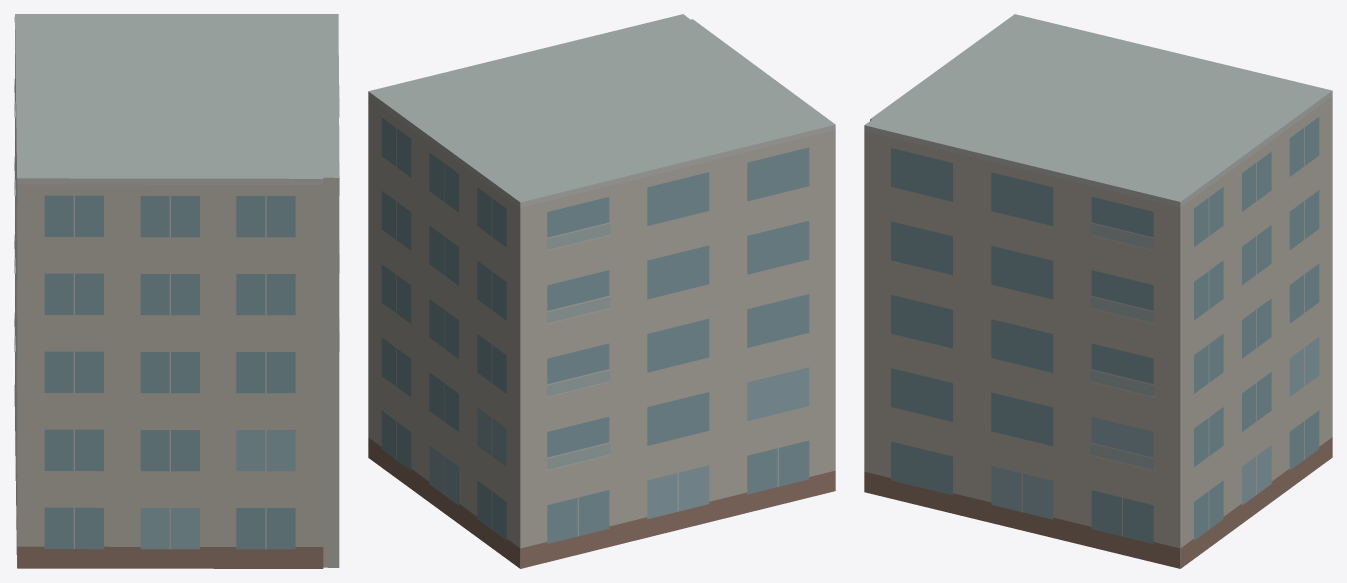
File: survey-upis-32551119.glb
3 views of the same model, side by side, from view 1: azimuth 30°, elevation 25°; view 2: azimuth 150°, elevation 25°; view 3: azimuth 270°, elevation 25° (orthographic). The views are drawn at different scales.
Parts seen in each view (by area): view 1: survey-upis-32551119.tmp; view 2: survey-upis-32551119.tmp; view 3: survey-upis-32551119.tmp.
Part boxes in pixels (x1,y1,x2,y2): survey-upis-32551119.tmp: [14, 14, 339, 568]; survey-upis-32551119.tmp: [368, 14, 835, 568]; survey-upis-32551119.tmp: [864, 14, 1332, 568].
Size of the model in its own units: 17.7 by 16.1 by 18.63.
